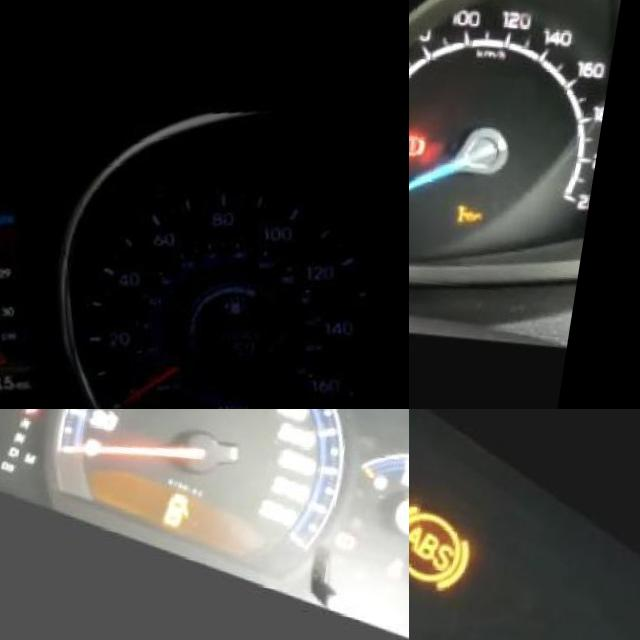Seat Belt: (403, 535, 409, 562)
